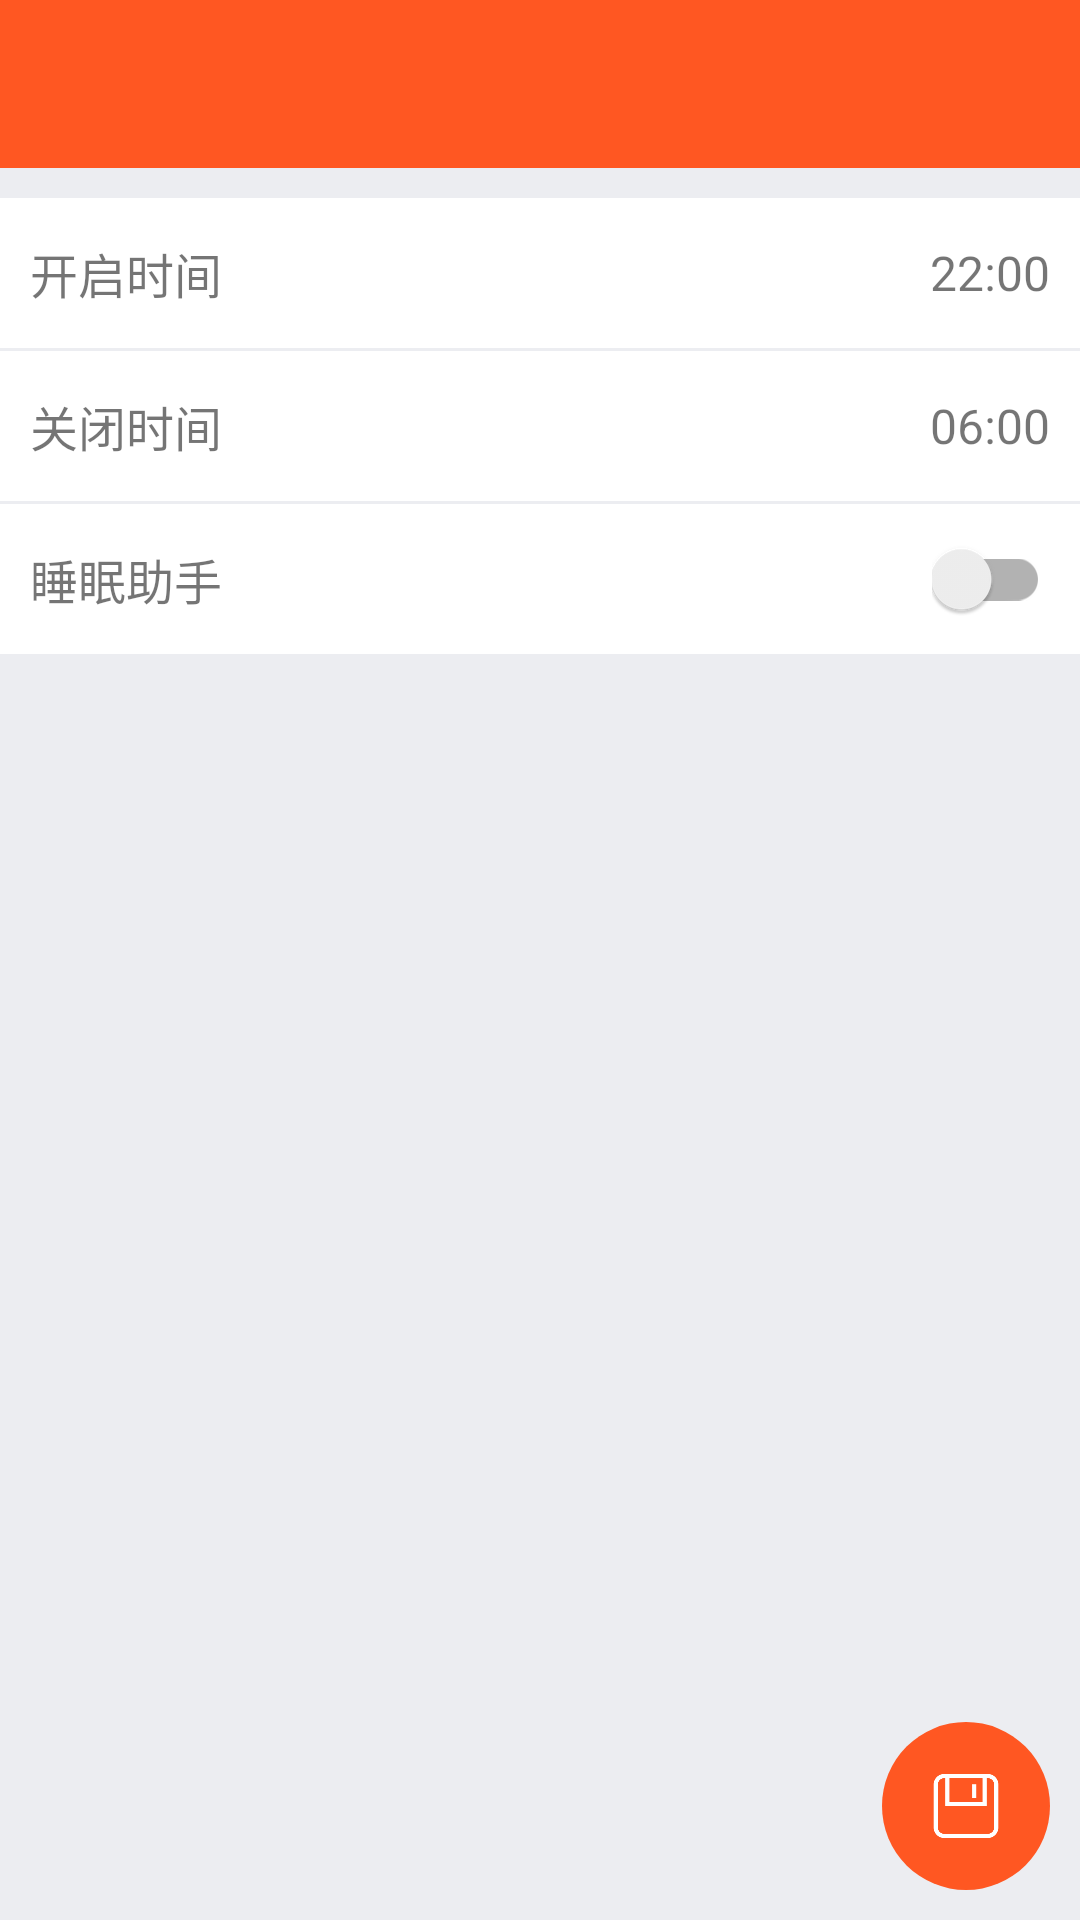

Locate icon controls on the screen. Image size 1080×1920, boxes as (x1, y1, x2, y2).
save: (882, 1722, 1050, 1890)
